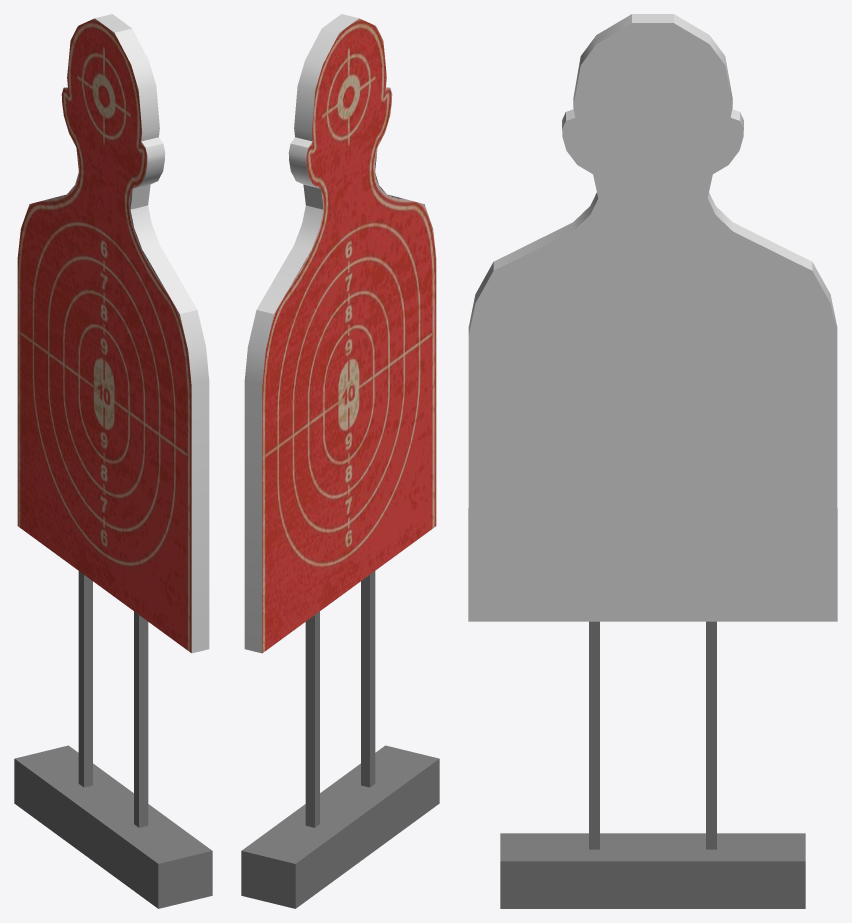
File: TargetModel.fbx
3 renders of one model, left to right at view 1: azimuth 30°, elevation 25°; view 2: azimuth 150°, elevation 25°; view 3: azimuth 270°, elevation 25°, orthographic. The views are drawn at different scales.
Visible parts, largest first — view 1: Cube, Cube.001; view 2: Cube, Cube.001; view 3: Cube, Cube.001.
Part boxes in pixels (box(x1,y1,x2,y2)): Cube: box(17, 14, 209, 653); Cube.001: box(14, 571, 212, 908); Cube: box(244, 14, 436, 653); Cube.001: box(241, 571, 439, 908); Cube: box(468, 14, 837, 621); Cube.001: box(500, 621, 805, 908).
Size of the model in its own units: 43.38 by 633 by 242.
